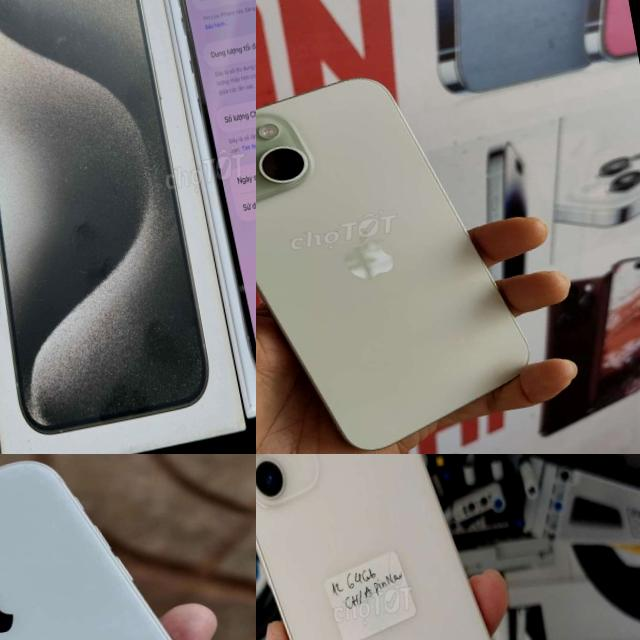gen_12_13: (256, 454, 559, 640)
gen_15: (256, 49, 566, 454), (156, 0, 256, 406)
gen_7_8: (0, 454, 256, 640)
